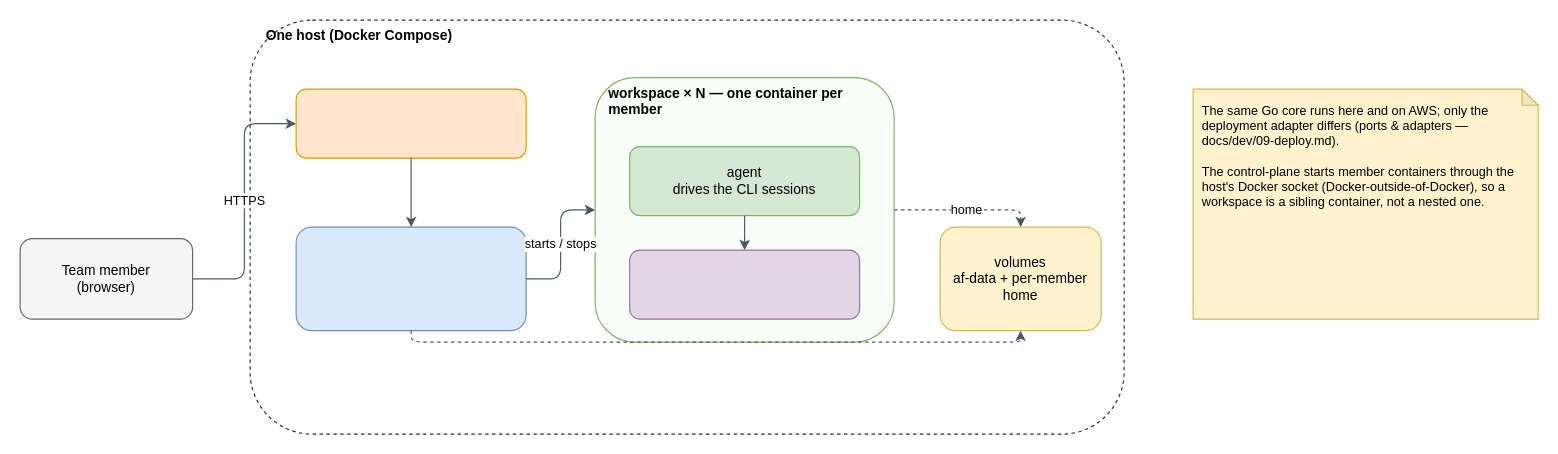
The diagram is 1558 pixels wide and 454 high, and some of its shapes have lost their labels. The centre of each missing label's shape, as x and y in pixels:
Caddy automatic TLS (Let's Encrypt): the point at 410,123
claude / codex / opencode …: the point at 744,284
control-plane Go — API / SSE / static Console: the point at 410,278
